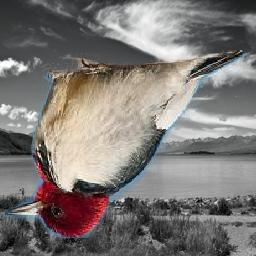Woodpecker: (3, 50, 247, 238)
